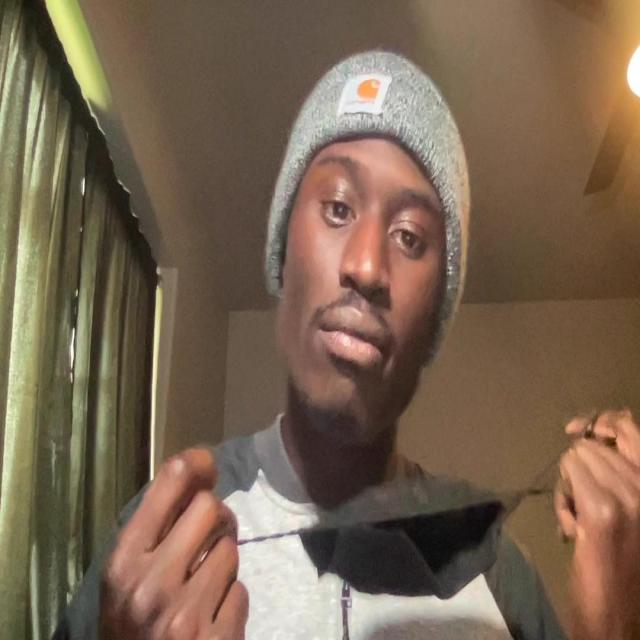face: (274, 95, 462, 452)
